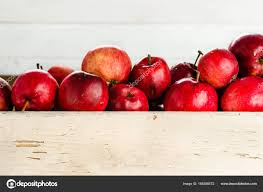apple: (13, 70, 58, 114), (60, 75, 108, 111), (83, 46, 128, 82), (165, 81, 215, 113), (224, 70, 263, 109), (133, 53, 169, 95), (111, 82, 152, 118), (229, 31, 263, 72), (197, 48, 239, 81)
